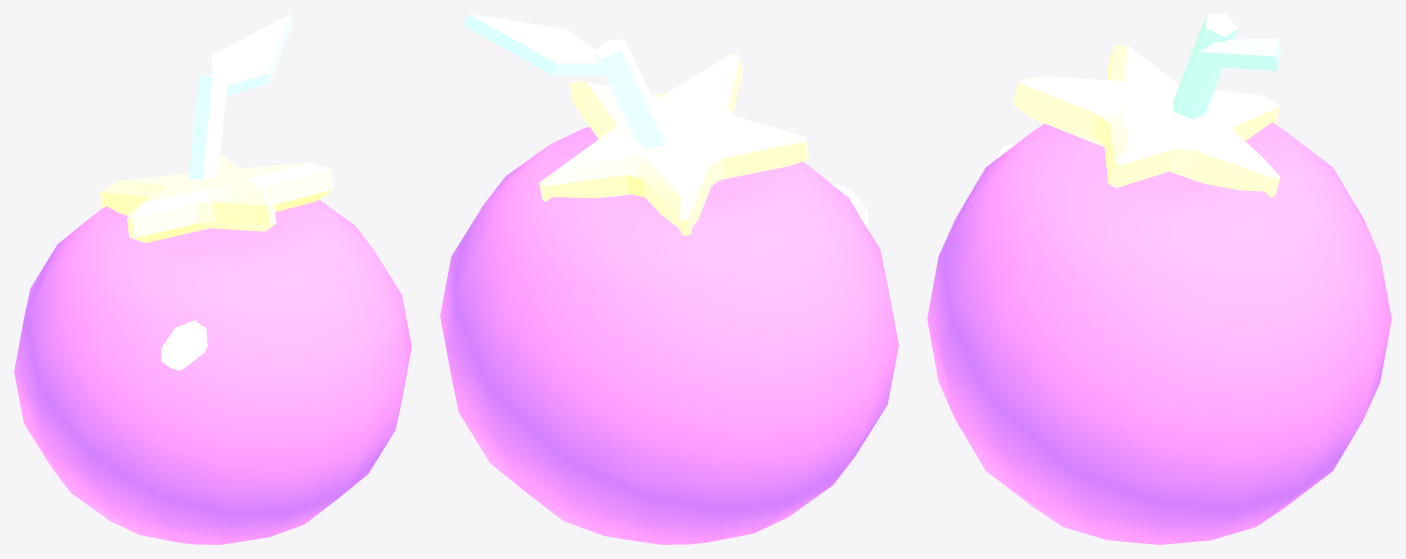
The model's file is fruit_1.glb.
The picture shows the model from 3 angles, left to right: view 1: azimuth 30°, elevation 25°; view 2: azimuth 150°, elevation 25°; view 3: azimuth 270°, elevation 25°; orthographic projection. The views are drawn at different scales.
Parts seen in each view (by area): view 1: fruit_1; view 2: fruit_1; view 3: fruit_1.
Part boxes in pixels (<box>): fruit_1: <box>14,14,411,544</box>; fruit_1: <box>440,14,898,544</box>; fruit_1: <box>927,14,1391,544</box>.
Size of the model in its own units: 0.4 by 0.4881 by 0.38.
